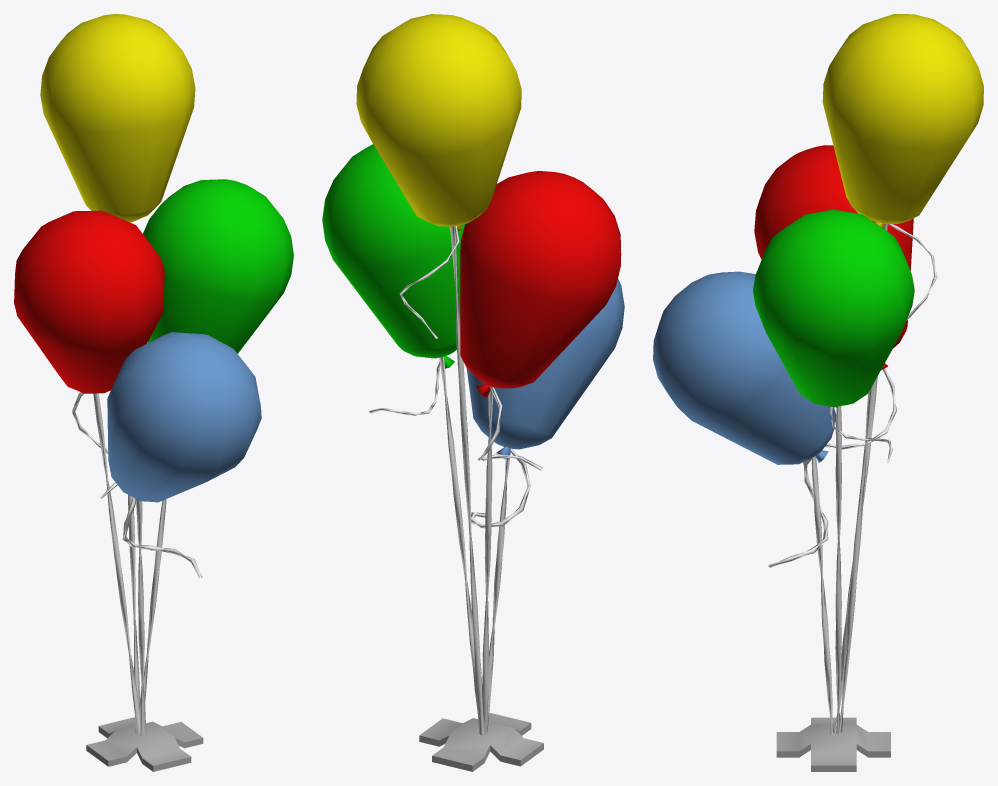
The model's file is Balloons_A.fbx.
3 renders of one model, left to right at view 1: azimuth 30°, elevation 25°; view 2: azimuth 150°, elevation 25°; view 3: azimuth 270°, elevation 25°, orthographic. The views are drawn at different scales.
Parts seen in each view (by area): view 1: Balloon_Yellow, Balloon_Blue, Balloon_Red, Balloon_Green, Cords, Base; view 2: Balloon_Red, Balloon_Yellow, Balloon_Green, Cords, Balloon_Blue, Base; view 3: Balloon_Yellow, Balloon_Green, Balloon_Blue, Cords, Balloon_Red, Base.
Boxes of the visible parts, box(x1,y1,x2,y2) form: Balloon_Yellow: box(40, 14, 195, 222); Balloon_Blue: box(107, 332, 261, 502); Balloon_Red: box(14, 210, 164, 393); Balloon_Green: box(143, 179, 293, 353); Cords: box(72, 392, 202, 735); Base: box(86, 717, 203, 771); Balloon_Red: box(460, 171, 621, 397); Balloon_Yellow: box(356, 14, 521, 231); Balloon_Green: box(322, 144, 464, 368); Cords: box(369, 226, 542, 735); Balloon_Blue: box(466, 278, 624, 459); Base: box(419, 713, 543, 771); Balloon_Yellow: box(822, 14, 983, 228); Balloon_Green: box(753, 209, 914, 407); Balloon_Blue: box(653, 271, 836, 464); Cords: box(768, 224, 937, 734); Balloon_Red: box(754, 145, 913, 370); Base: box(776, 717, 890, 771).
Bounding box in the file's own units: 0.7015 × 1.81 × 0.7439.
